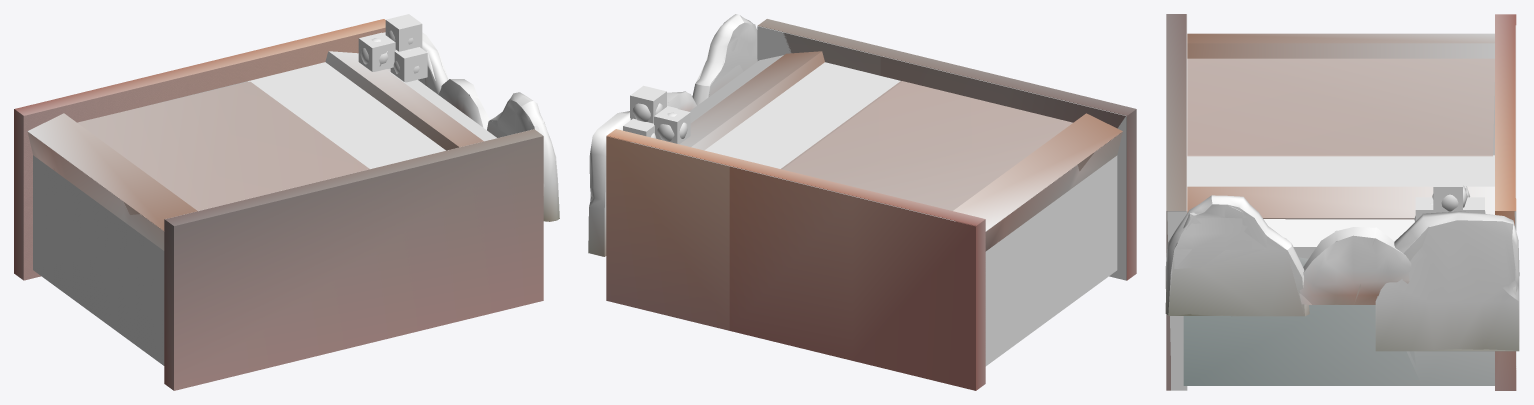
The model's file is ut_platform.DAE.
3 views of the same model, side by side, from view 1: azimuth 30°, elevation 25°; view 2: azimuth 150°, elevation 25°; view 3: azimuth 270°, elevation 25° (orthographic). The views are drawn at different scales.
Parts seen in each view (by area): view 1: cannon_platform_c50, cannon_platform_c100, Colmesh-1, cannon_platform_c500; view 2: cannon_platform_c500, cannon_platform_c50, Colmesh-1, cannon_platform_c100; view 3: cannon_platform_c50, cannon_platform_c500, cannon_platform_c100, Colmesh-1.
Part boxes in pixels (x1,y1,x2,y2): cannon_platform_c50: [14, 14, 559, 390]; cannon_platform_c100: [23, 21, 559, 390]; Colmesh-1: [33, 21, 556, 365]; cannon_platform_c500: [14, 21, 558, 390]; cannon_platform_c500: [588, 14, 1136, 390]; cannon_platform_c50: [590, 19, 1136, 382]; Colmesh-1: [605, 26, 1126, 366]; cannon_platform_c100: [590, 24, 1122, 383]; cannon_platform_c50: [1166, 14, 1518, 390]; cannon_platform_c500: [1165, 14, 1519, 390]; cannon_platform_c100: [1166, 196, 1518, 390]; Colmesh-1: [1167, 14, 1516, 390].
Bounding box in the file's own units: 8.44 × 6.12 × 3.9.
